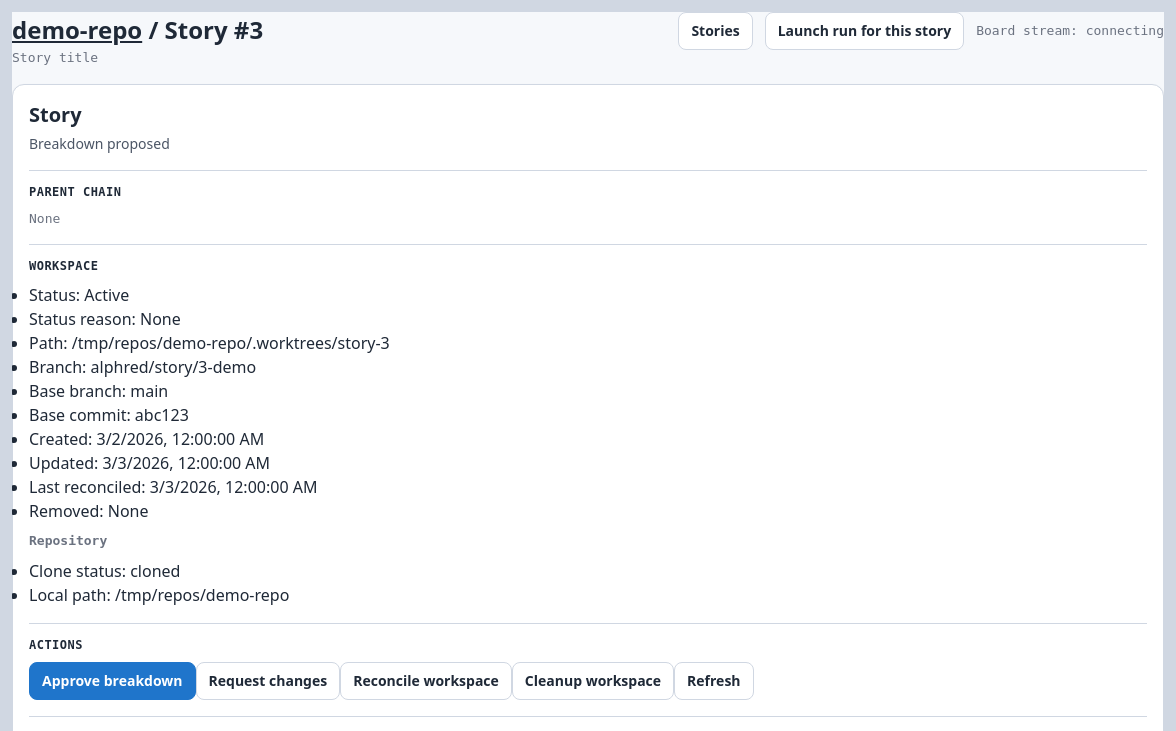
Scenario: StoryDetailPageContent › shows proposed plan in BreakdownProposed and supports approval
This screenshot has width=1176, height=731.
Click the button "Approve breakdown". click: (112, 680)
box: [29,662,196,700]
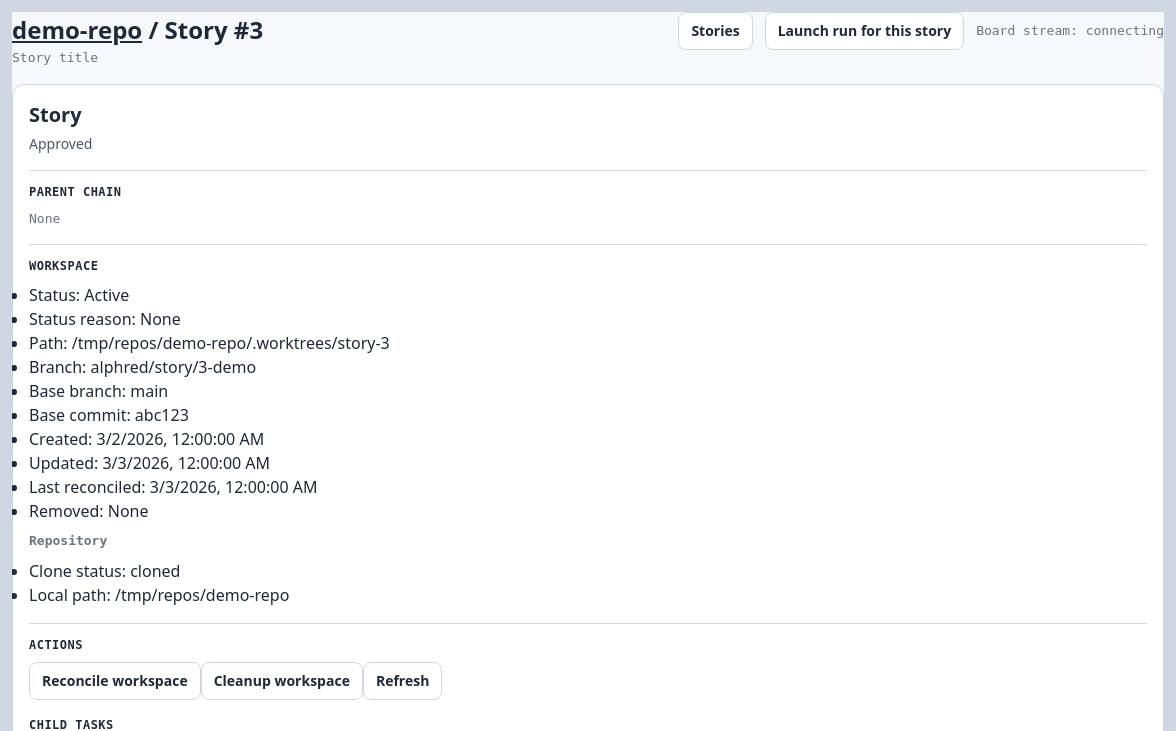
expect the text "Approved" is shown: met, box [29,134,92,152]
